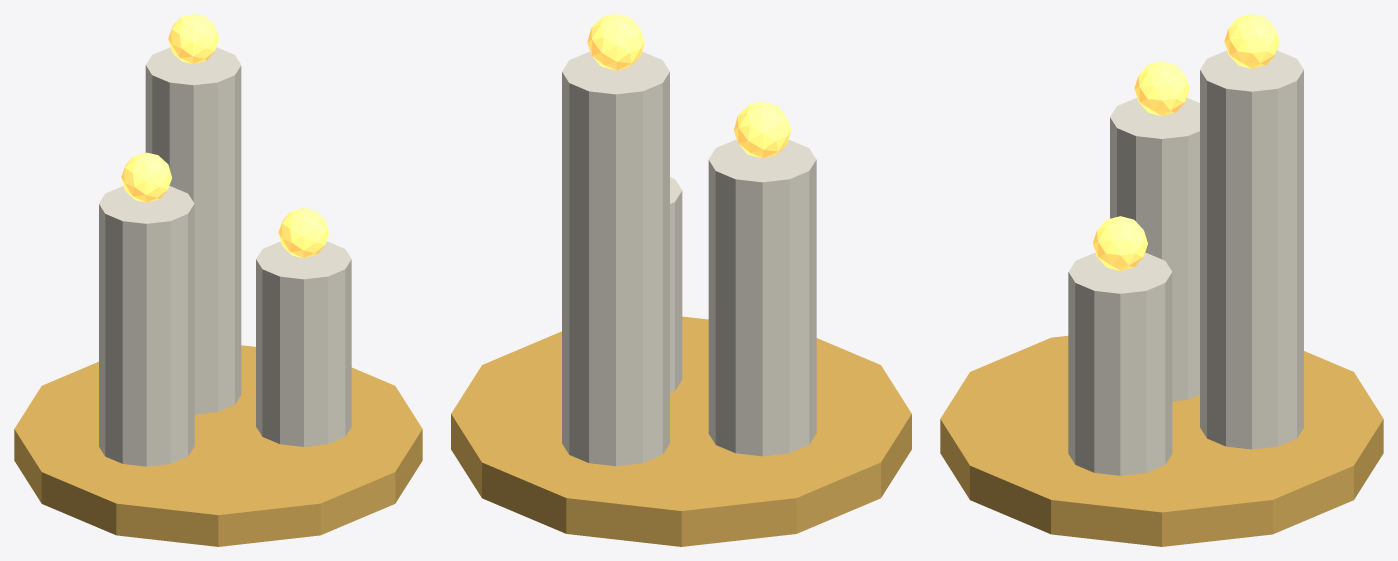
File: north-pole-village-candle-trio-b4d92d1a__25430.glb
3 renders of one model, left to right at view 1: azimuth 30°, elevation 25°; view 2: azimuth 150°, elevation 25°; view 3: azimuth 270°, elevation 25°, orthographic. The views are drawn at different scales.
Parts seen in each view (by area): view 1: candle-trio; view 2: candle-trio; view 3: candle-trio.
Part boxes in pixels (x1=…): candle-trio: x1=14, y1=14, x2=422, y2=546; candle-trio: x1=451, y1=14, x2=911, y2=546; candle-trio: x1=940, y1=14, x2=1383, y2=546.
Bounding box in the file's own units: 0.64 × 0.71 × 0.64.
